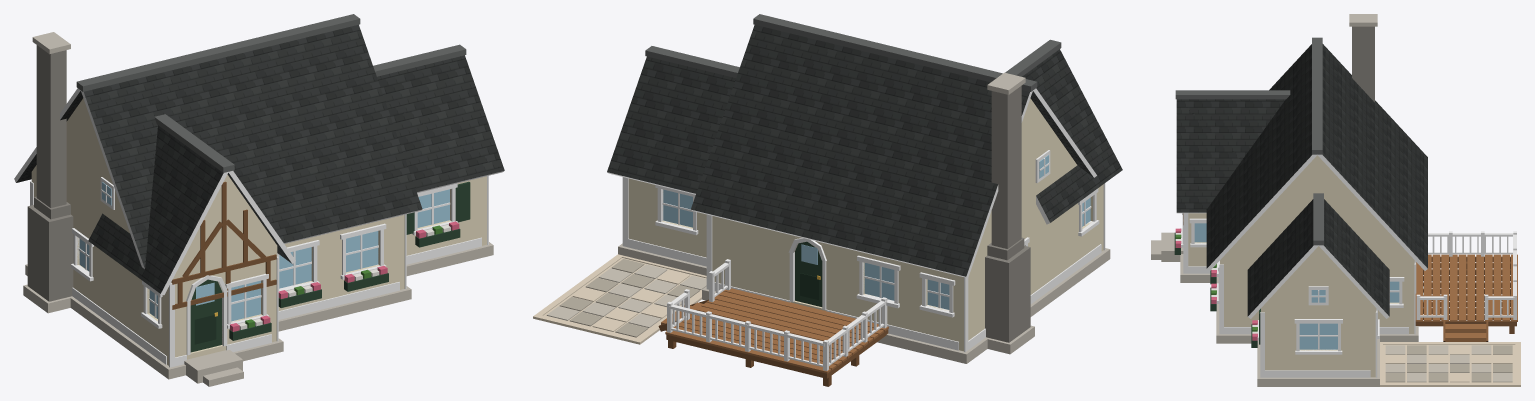
The model's file is base-08-level4.glb.
3 renders of one model, left to right at view 1: azimuth 30°, elevation 25°; view 2: azimuth 150°, elevation 25°; view 3: azimuth 270°, elevation 25°, orthographic. The views are drawn at different scales.
Parts seen in each view (by area): view 1: base_house_8_finished, piece_addition; view 2: base_house_8_finished, piece_addition, piece_deck, piece_patio; view 3: base_house_8_finished, piece_addition, piece_deck, piece_patio.
Part boxes in pixels (x1=…): base_house_8_finished: x1=14, y1=14, x2=422, y2=386; piece_addition: x1=373, y1=44, x2=504, y2=275; base_house_8_finished: x1=691, y1=14, x2=1122, y2=363; piece_addition: x1=607, y1=46, x2=739, y2=275; piece_deck: x1=658, y1=259, x2=888, y2=386; piece_patio: x1=533, y1=254, x2=706, y2=344; base_house_8_finished: x1=1151, y1=14, x2=1427, y2=343; piece_addition: x1=1247, y1=193, x2=1389, y2=386; piece_deck: x1=1415, y1=231, x2=1517, y2=341; piece_patio: x1=1380, y1=342, x2=1520, y2=386.
Bounding box in the file's own units: 14.99 × 9.33 × 14.45.
20 materials, 1 textured.
